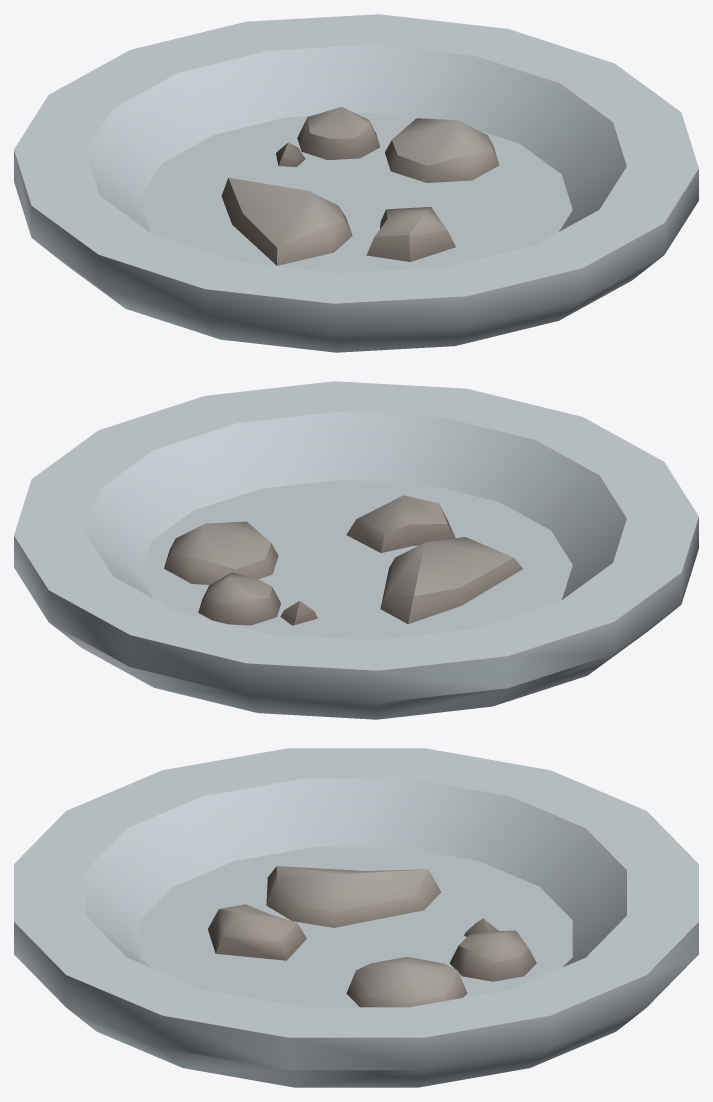
The model's file is kay-plate_dirty.glb.
3 renders of one model, top to bottom at view 1: azimuth 30°, elevation 25°; view 2: azimuth 150°, elevation 25°; view 3: azimuth 270°, elevation 25°, orthographic.
Visible parts, largest first — view 1: plate_dirty; view 2: plate_dirty; view 3: plate_dirty.
Boxes of the visible parts, x1=… form: plate_dirty: x1=14, y1=14, x2=698, y2=352; plate_dirty: x1=14, y1=381, x2=698, y2=719; plate_dirty: x1=14, y1=748, x2=698, y2=1087.
Size of the model in its own units: 0.22 by 0.0232 by 0.22.
Materials: 1 (1 with a texture image).
